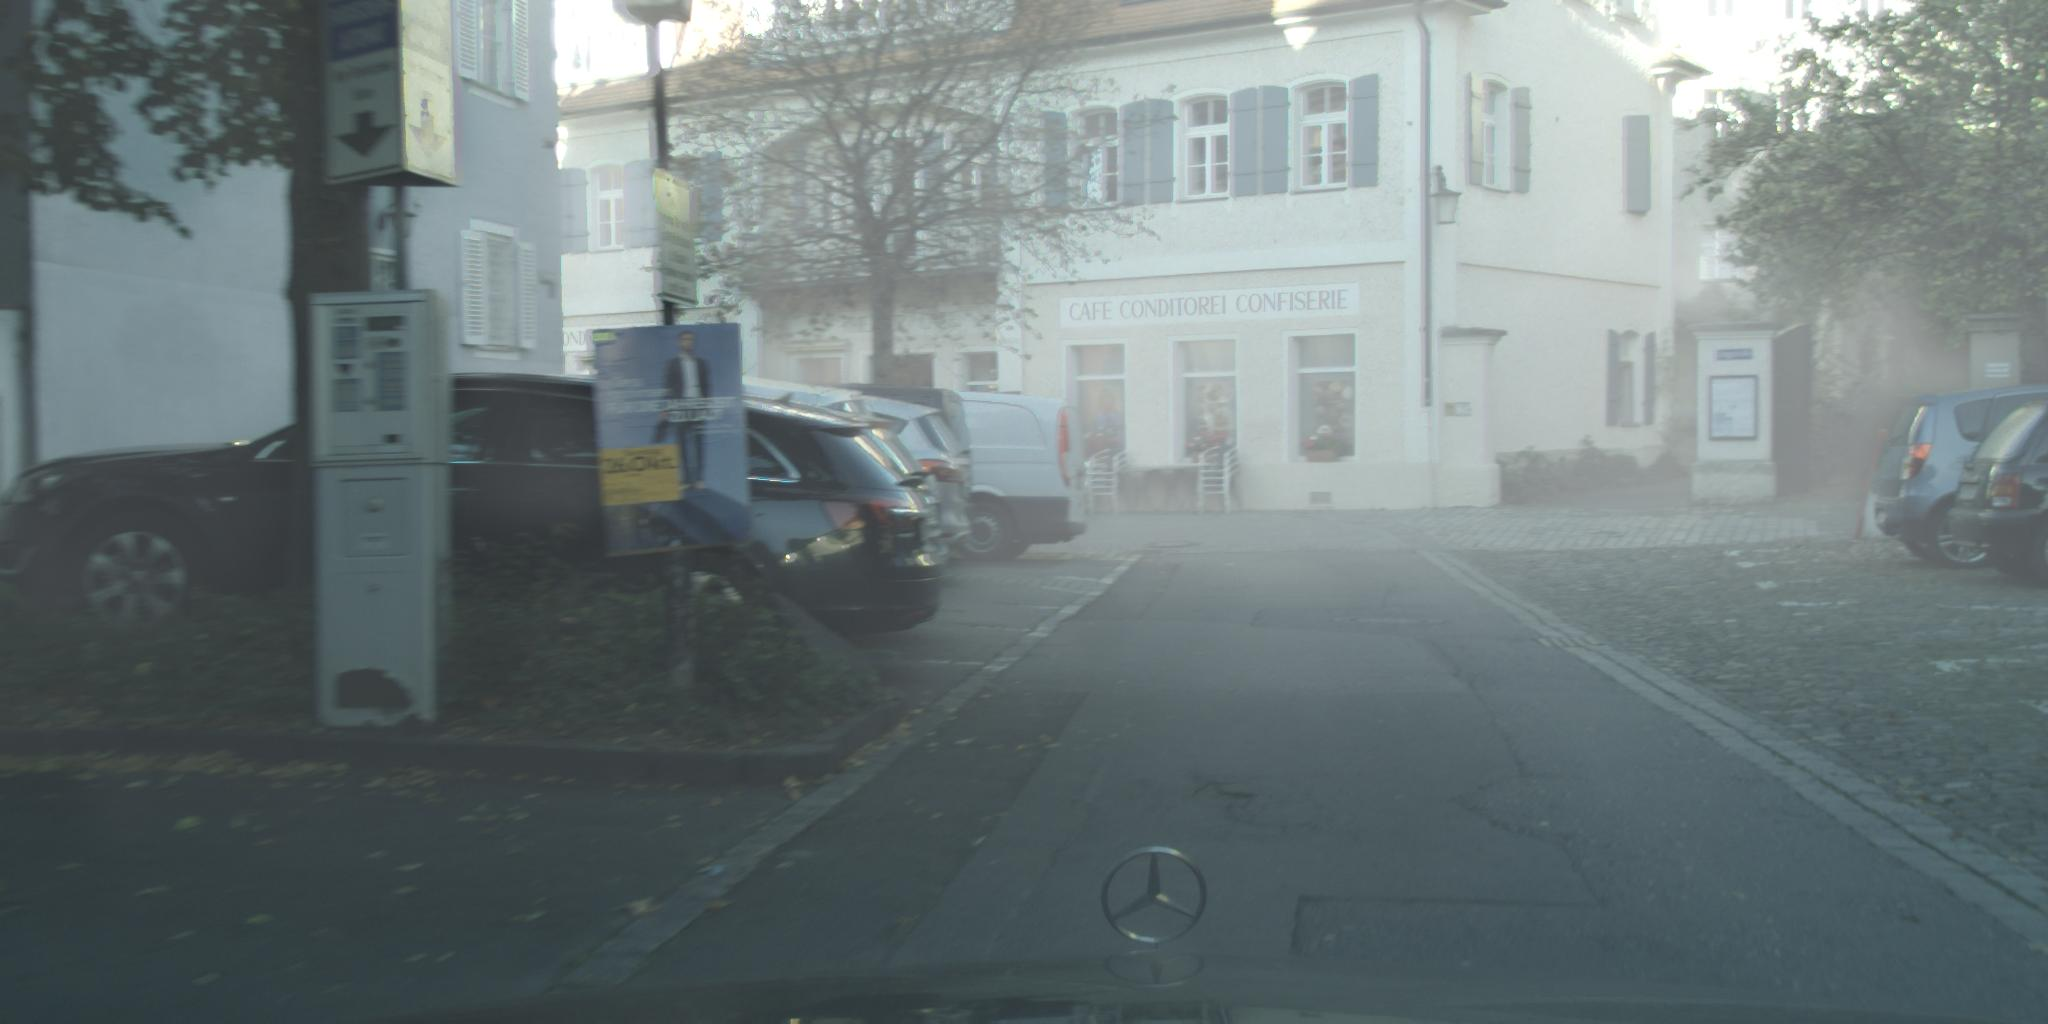car: (1, 372, 950, 637), (1866, 385, 2048, 569), (946, 392, 1088, 562), (846, 393, 974, 551), (812, 383, 973, 507), (1950, 400, 2048, 583), (737, 374, 870, 421)
